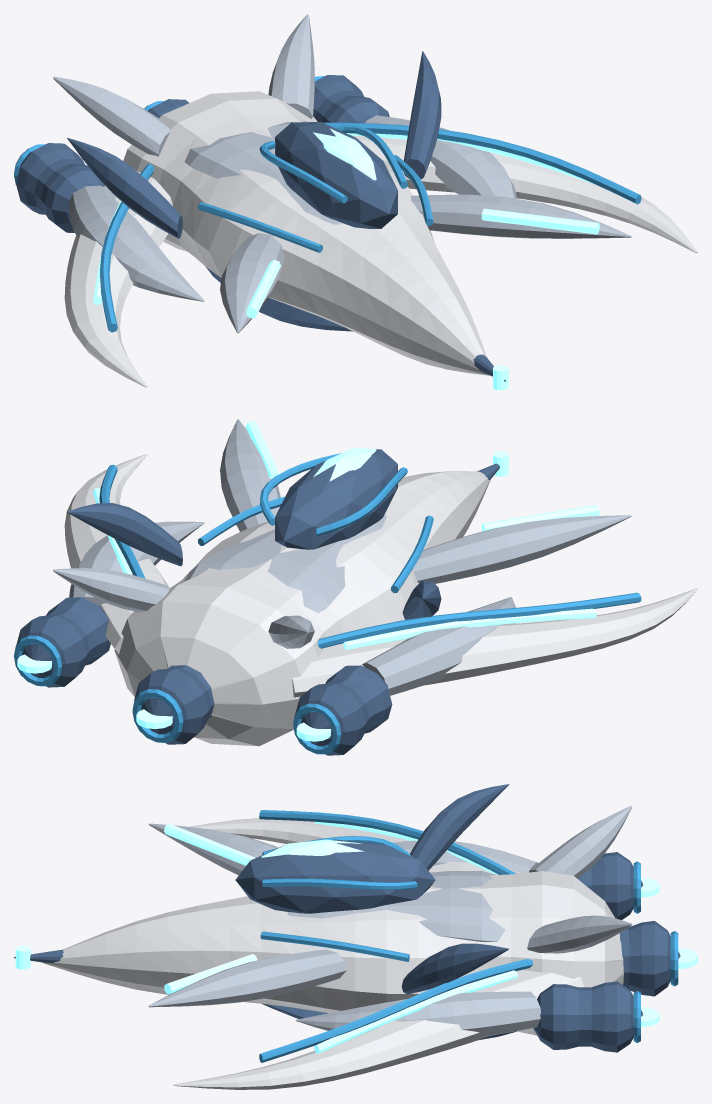
Rendered from SL_PIONEER_LOD.glb.
The picture shows the model from 3 angles, top to bottom: view 1: azimuth 30°, elevation 25°; view 2: azimuth 150°, elevation 25°; view 3: azimuth 270°, elevation 25°; orthographic projection. The views are drawn at different scales.
Parts seen in each view (by area): view 1: armor, plate, dark, accent, energy; view 2: armor, plate, dark, accent, energy; view 3: armor, dark, plate, accent, energy.
Part boxes in pixels (x1=…): armor: x1=64, y1=91, x2=697, y2=387; plate: x1=53, y1=14, x2=631, y2=333; dark: x1=16, y1=51, x2=505, y2=381; accent: x1=14, y1=76, x2=641, y2=332; energy: x1=93, y1=128, x2=599, y2=390; armor: x1=64, y1=454, x2=697, y2=746; plate: x1=53, y1=419, x2=631, y2=695; dark: x1=16, y1=449, x2=499, y2=755; accent: x1=14, y1=453, x2=641, y2=754; energy: x1=17, y1=421, x2=599, y2=741; armor: x1=43, y1=818, x2=623, y2=1089; dark: x1=14, y1=784, x2=680, y2=1052; plate: x1=148, y1=806, x2=632, y2=1037; accent: x1=259, y1=810, x2=678, y2=1062; energy: x1=15, y1=821, x2=697, y2=1053.
Bounding box in the file's own units: 5.38 × 1.8 × 5.87.
